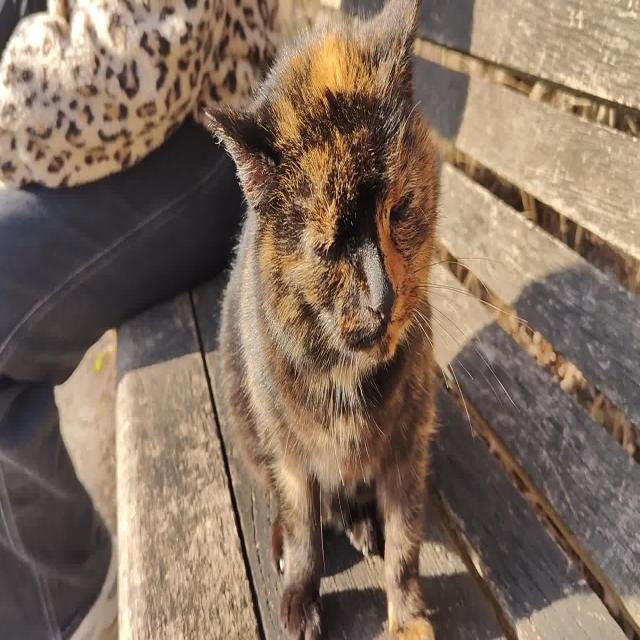cat: (203, 0, 442, 640)
